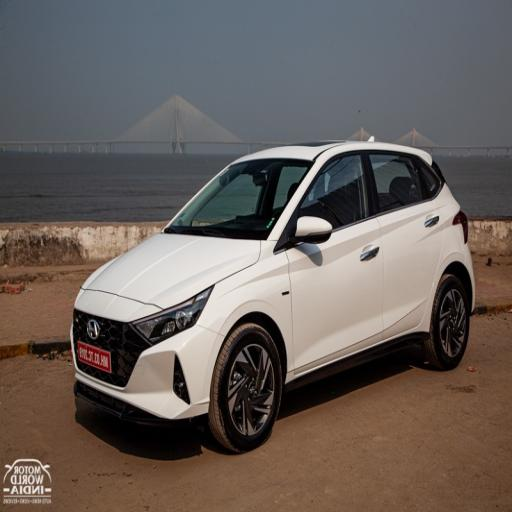License: (72, 342, 117, 372)
